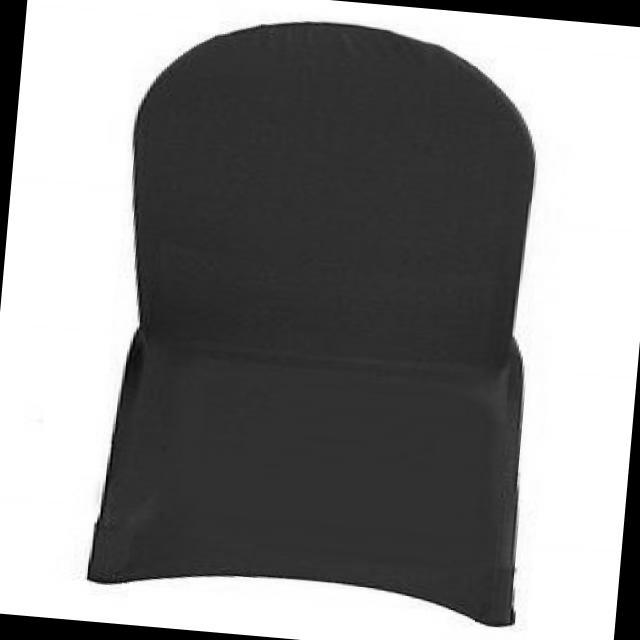chair: (85, 1, 568, 632)
